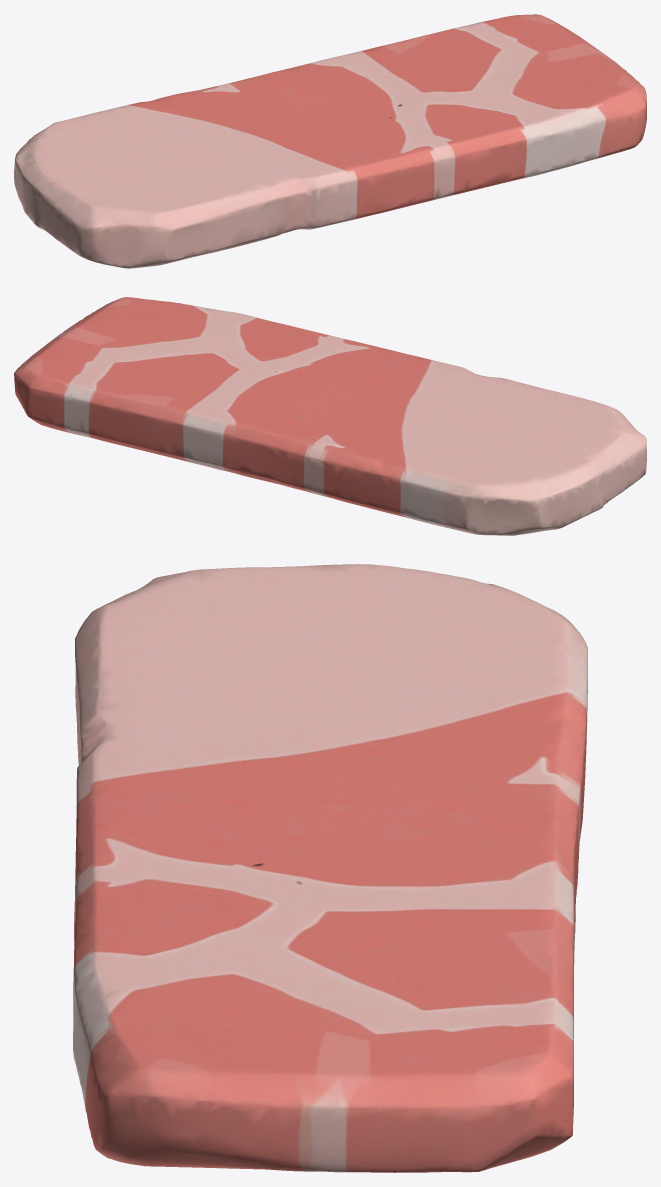
The model's file is Meshy_AI_Low_Poly_Marble_Steak_0422153344_texture.fbx.
The picture shows the model from 3 angles, top to bottom: view 1: azimuth 30°, elevation 25°; view 2: azimuth 150°, elevation 25°; view 3: azimuth 270°, elevation 25°; orthographic projection. The views are drawn at different scales.
Parts seen in each view (by area): view 1: Mesh_0; view 2: Mesh_0; view 3: Mesh_0.
Boxes of the visible parts, left/top/right/bottom form: Mesh_0: left=14, top=14, right=646, bottom=268; Mesh_0: left=14, top=297, right=646, bottom=535; Mesh_0: left=73, top=564, right=587, bottom=1172.
Size of the model in its own units: 200 by 17.39 by 80.92.
Materials: 1 (1 with a texture image).
